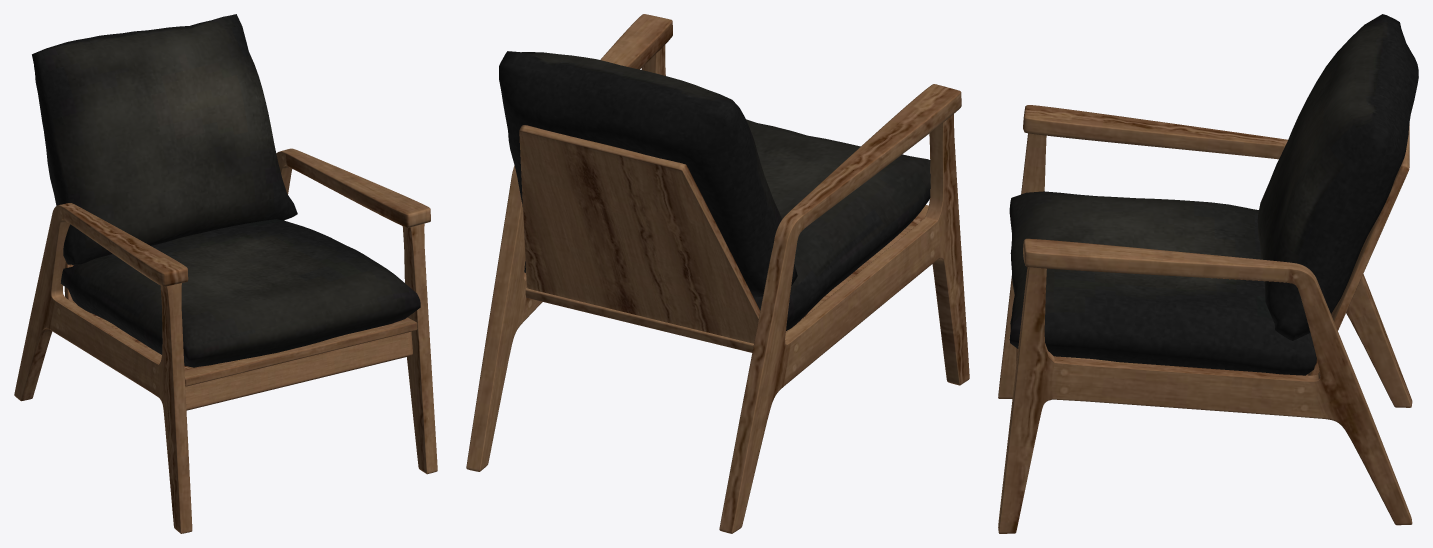
Rendered from armchair.glb.
3 views of the same model, side by side, from view 1: azimuth 30°, elevation 25°; view 2: azimuth 150°, elevation 25°; view 3: azimuth 270°, elevation 25° (orthographic). The views are drawn at different scales.
Visible parts, largest first — view 1: modern_arm_chair_01; view 2: modern_arm_chair_01; view 3: modern_arm_chair_01.
Part boxes in pixels (box(x1,y1,x2,y2)): modern_arm_chair_01: box(14, 14, 437, 533); modern_arm_chair_01: box(466, 14, 969, 533); modern_arm_chair_01: box(998, 14, 1418, 533).
Bounding box in the file's own units: 0.8203 × 1.02 × 0.9866.
2 materials, 2 textured.
